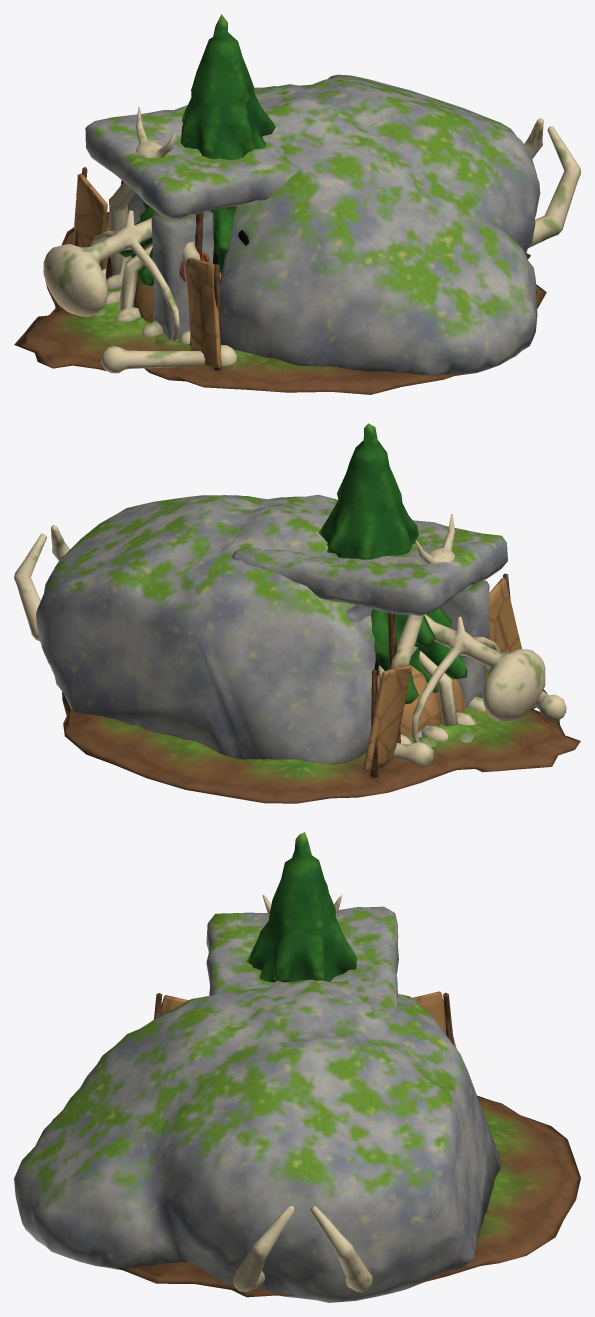
Rendered from stone_decor.glb.
The picture shows the model from 3 angles, top to bottom: view 1: azimuth 30°, elevation 25°; view 2: azimuth 150°, elevation 25°; view 3: azimuth 270°, elevation 25°; orthographic projection. The views are drawn at different scales.
Visible parts, largest first — view 1: Cave, Dolmen, Mammoth, Pine_B, BoneHut; view 2: Cave, Dolmen, Mammoth, Pine_B, BoneHut; view 3: Cave, Dolmen, Pine_B, Mammoth.
Boxes of the visible parts, bbox=[...] form: Cave: bbox=[43, 74, 546, 394]; Dolmen: bbox=[85, 87, 298, 339]; Mammoth: bbox=[14, 118, 580, 373]; Pine_B: bbox=[119, 14, 275, 286]; BoneHut: bbox=[105, 243, 221, 344]; Cave: bbox=[36, 494, 547, 803]; Dolmen: bbox=[232, 520, 507, 746]; Mammoth: bbox=[14, 525, 580, 772]; Pine_B: bbox=[319, 423, 467, 704]; BoneHut: bbox=[377, 651, 486, 744]; Cave: bbox=[14, 894, 580, 1302]; Dolmen: bbox=[206, 906, 398, 1023]; Pine_B: bbox=[246, 832, 356, 982]; Mammoth: bbox=[233, 1205, 372, 1292].
Bounding box in the file's own units: 6.77 × 3.8 × 5.73.
1 material, 1 textured.
